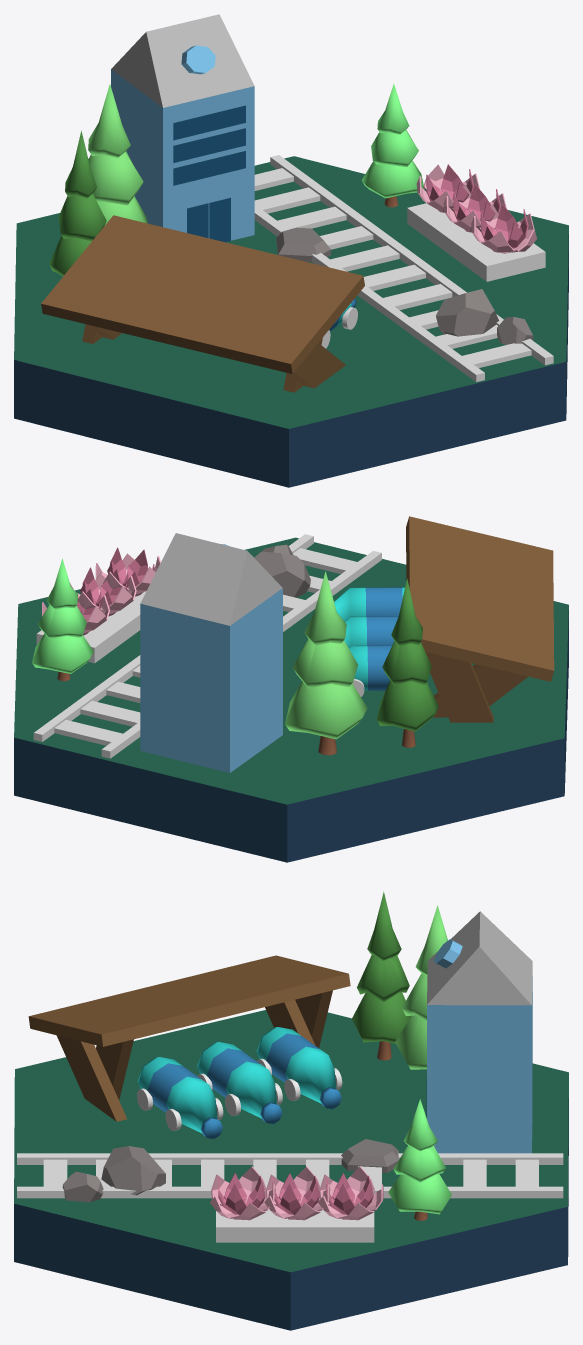
The model's file is Macro - Transportation Hub lvl 1 WM2.fbx.
The picture shows the model from 3 angles, top to bottom: view 1: azimuth 30°, elevation 25°; view 2: azimuth 150°, elevation 25°; view 3: azimuth 270°, elevation 25°; orthographic projection.
Visible parts, largest first — view 1: Cylinder.013, table.001, milkbox1.001, Tree_Spruce_tiny_01.008, Cube, Tree_Spruce_tiny_01.003, Tree_Spruce_tiny_01.007, Cube.011, Cube.012, Rock Type2 04 mesh.002, Rock Type4 04 mesh.001, Plane.001 (+20 smaller); view 2: Cylinder.013, milkbox1.001, table.001, Tree_Spruce_tiny_01.008, Tree_Spruce_tiny_01.007, Tree_Spruce_tiny_01.003, Cube.012, Cube, coke3.003, Cube.011, Rock Type2 04 mesh.002, coke3.004 (+10 smaller); view 3: Cylinder.013, milkbox1.001, table.001, Tree_Spruce_tiny_01.007, Cube, Tree_Spruce_tiny_01.003, Cube.012, coke3.004, coke3.003, coke3.005, Cube.011, Tree_Spruce_tiny_01.008 (+13 smaller).
Boxes of the visible parts, left/top/right/bottom form: Cylinder.013: left=14, top=156, right=568, bottom=487; table.001: left=41, top=215, right=364, bottom=392; milkbox1.001: left=111, top=14, right=254, bottom=240; Tree_Spruce_tiny_01.008: left=88, top=84, right=147, bottom=225; Cube: left=407, top=203, right=545, bottom=281; Tree_Spruce_tiny_01.003: left=361, top=83, right=423, bottom=207; Tree_Spruce_tiny_01.007: left=49, top=130, right=106, bottom=276; Cube.011: left=270, top=155, right=553, bottom=365; Cube.012: left=254, top=204, right=484, bottom=382; Rock Type2 04 mesh.002: left=436, top=289, right=498, bottom=336; Rock Type4 04 mesh.001: left=276, top=227, right=330, bottom=261; Plane.001: left=173, top=151, right=245, bottom=185; Cylinder.013: left=14, top=537, right=568, bottom=862; milkbox1.001: left=140, top=533, right=282, bottom=772; table.001: left=406, top=516, right=554, bottom=722; Tree_Spruce_tiny_01.008: left=285, top=571, right=367, bottom=755; Tree_Spruce_tiny_01.007: left=376, top=578, right=438, bottom=747; Tree_Spruce_tiny_01.003: left=32, top=558, right=93, bottom=681; Cube.012: left=101, top=550, right=381, bottom=758; Cube: left=36, top=591, right=146, bottom=663; coke3.003: left=313, top=587, right=404, bottom=621; Cube.011: left=33, top=534, right=313, bottom=741; Rock Type2 04 mesh.002: left=254, top=551, right=310, bottom=597; coke3.004: left=344, top=616, right=398, bottom=647; Cylinder.013: left=14, top=1010, right=568, bottom=1330; milkbox1.001: left=427, top=911, right=532, bottom=1153; table.001: left=28, top=955, right=350, bottom=1121; Tree_Spruce_tiny_01.007: left=352, top=891, right=411, bottom=1060; Cube: left=216, top=1209, right=374, bottom=1242; Tree_Spruce_tiny_01.003: left=388, top=1099, right=451, bottom=1220; Cube.012: left=17, top=1153, right=563, bottom=1164; coke3.004: left=197, top=1042, right=282, bottom=1124; coke3.003: left=137, top=1057, right=222, bottom=1139; coke3.005: left=256, top=1027, right=341, bottom=1109; Cube.011: left=17, top=1186, right=563, bottom=1198; Tree_Spruce_tiny_01.008: left=395, top=905, right=447, bottom=1069.
Size of the model in its own units: 197 by 89.35 by 172.
